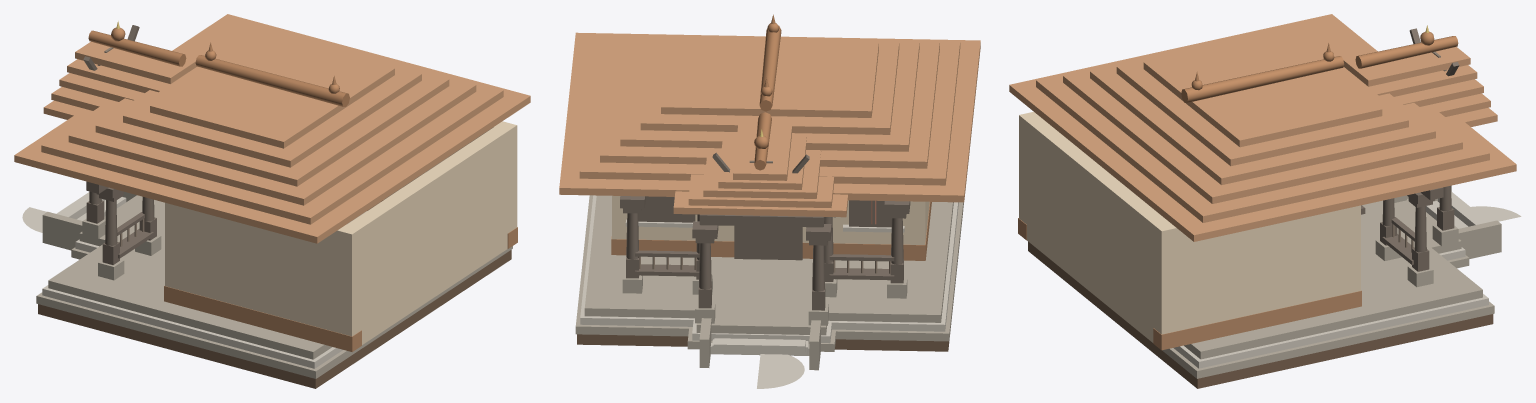
Rendered from south_indian_village_house_variant_b.glb.
3 renders of one model, left to right at view 1: azimuth 30°, elevation 25°; view 2: azimuth 150°, elevation 25°; view 3: azimuth 270°, elevation 25°, orthographic. The views are drawn at different scales.
Visible parts, largest first — view 1: Cross_Gabled_Terracotta_Roof, House_Enclosed_Walls, Granite_Plinth_Adhisthana, House_Foundation_Skirt, Veranda_Pillar_4, Veranda_Portico_Colonnade, Veranda_Pillar_6, Veranda_Pillar_3; view 2: Cross_Gabled_Terracotta_Roof, Granite_Plinth_Adhisthana, House_Enclosed_Walls, Doors_And_Windows_Variant_B, Veranda_Portico_Colonnade, House_Foundation_Skirt, Veranda_Pillar_5, Veranda_Pillar_6, Veranda_Pillar_4, Veranda_Pillar_1, Veranda_Pillar_3; view 3: Cross_Gabled_Terracotta_Roof, House_Enclosed_Walls, Granite_Plinth_Adhisthana, House_Foundation_Skirt, Veranda_Pillar_1, Veranda_Pillar_5, Veranda_Portico_Colonnade, Veranda_Pillar_2.
Part boxes in pixels (x1,y1,x2,y2): Cross_Gabled_Terracotta_Roof: (14,14,530,243); House_Enclosed_Walls: (164,121,517,351); Granite_Plinth_Adhisthana: (22,191,512,378); House_Foundation_Skirt: (38,250,511,388); Veranda_Pillar_4: (96,187,124,280); Veranda_Portico_Colonnade: (86,181,153,258); Veranda_Pillar_6: (82,191,105,238); Veranda_Pillar_3: (135,197,161,255); Cross_Gabled_Terracotta_Roof: (559,25,980,217); Granite_Plinth_Adhisthana: (575,195,963,388); House_Enclosed_Walls: (611,195,931,260); Doors_And_Windows_Variant_B: (625,196,904,260); Veranda_Portico_Colonnade: (635,214,894,280); House_Foundation_Skirt: (577,214,962,351); Veranda_Pillar_5: (692,221,718,323); Veranda_Pillar_6: (806,224,831,325); Veranda_Pillar_4: (884,201,910,298); Veranda_Pillar_1: (620,196,645,293); Veranda_Pillar_3: (824,217,837,297); Cross_Gabled_Terracotta_Roof: (1009,14,1516,241); House_Enclosed_Walls: (1018,111,1361,350); Granite_Plinth_Adhisthana: (1029,186,1521,378); House_Foundation_Skirt: (1028,241,1493,388); Veranda_Pillar_1: (1407,192,1434,287); Veranda_Pillar_5: (1432,185,1458,245); Veranda_Portico_Colonnade: (1382,187,1443,264); Veranda_Pillar_2: (1375,198,1401,260).
Bounding box in the file's own units: 9.79 × 4.75 × 9.58.
